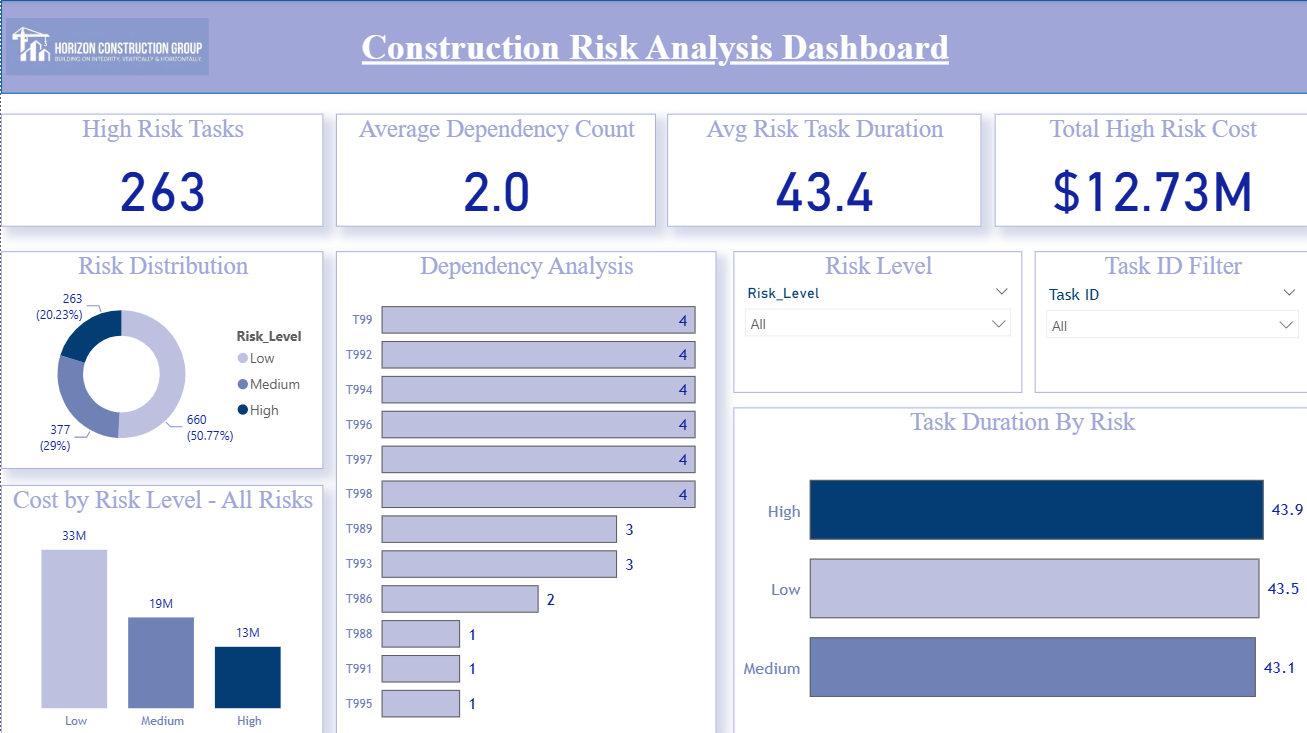

This screenshot's page, from the dashboard's own definition file:
{"tool":"powerbi","page":{"name":"Risk Analysis Dashboard","canvas":[1280,720],"ordinal":1},"visuals":[{"type":"shape","box":[0,0,1279.9,91.7],"z":0},{"type":"image","box":[0,0,207.8,91.7],"z":1000},{"type":"card","title":"High Risk Tasks","fields":{"Values":["Measures Table.High Risk Task"]},"box":[0,111.2,315.4,110],"z":2000},{"type":"card","title":"Average Dependency Count","fields":{"Values":["Measures Table 2.Average Dependency Count"]},"box":[327.6,111.2,312.9,110],"z":3000},{"type":"card","title":"Avg Risk Task Duration","fields":{"Values":["Measures Table 2.Average Risk Task Duration"]},"box":[651.5,111.2,306.8,110],"z":4000},{"type":"card","title":"Total High Risk Cost","fields":{"Values":["Measures Table 2.Total High Risk Cost"]},"box":[971.8,111.2,308,110],"z":5000},{"type":"donutChart","title":"Risk Distribution","fields":{"Category":["Dim Risk.Risk_Level"],"Y":["CountNonNull(Fact Constructions.Task_ID)"]},"box":[0,245.7,315.4,212.7],"z":6000},{"type":"clusteredColumnChart","fields":{"Y":["Sum(Fact Constructions.Material_Cost_USD)"],"Category":["Fact Constructions.Risk_Level"]},"box":[0,474.3,315.4,245.7],"z":7000},{"type":"clusteredBarChart","title":"Dependency Analysis","fields":{"Category":["Fact Constructions.Task_ID"],"Y":["Sum(Fact Constructions.Dependency_Count)"]},"box":[327.6,245.7,371.6,474.3],"z":8000},{"type":"clusteredBarChart","title":"Task Duration By Risk","fields":{"Y":[" Measures Table 1.Average Task Duration"],"Category":["Fact Constructions.Risk_Level"]},"box":[716.3,398.5,563.5,321.5],"z":9000},{"type":"slicer","title":"Risk Level","fields":{"Values":["Dim Risk.Risk_Level"]},"box":[716.3,245.7,282.4,138.1],"z":10000},{"type":"slicer","title":"Task ID Filter","fields":{"Values":["Fact Constructions.Task_ID"]},"box":[1010.9,245.7,268.9,138.1],"z":11000}]}

Visuals, with their boxes in screenshot pixels (x1, y1, x2, y2), scaled from the page's 1280x720 canvas onto the 1307x733 screenshot:
shape: 0/0/1306/93
image: 0/0/212/93
"High Risk Tasks" card: 0/113/322/225
"Average Dependency Count" card: 335/113/654/225
"Avg Risk Task Duration" card: 665/113/979/225
"Total High Risk Cost" card: 992/113/1306/225
"Risk Distribution" donutChart: 0/250/322/467
clusteredColumnChart - Sum(Fact Constructions.Material_Cost_USD) x Fact Constructions.Risk_Level: 0/483/322/732
"Dependency Analysis" clusteredBarChart: 335/250/714/732
"Task Duration By Risk" clusteredBarChart: 731/406/1306/732
"Risk Level" slicer: 731/250/1020/391
"Task ID Filter" slicer: 1032/250/1306/391
